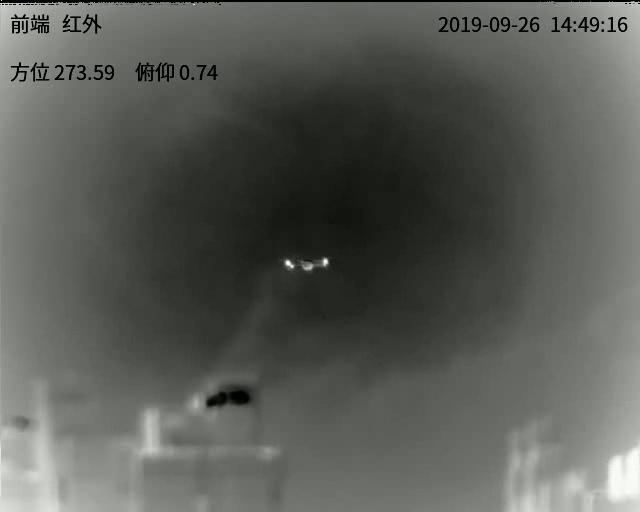DRONE: (283, 255, 330, 271)
